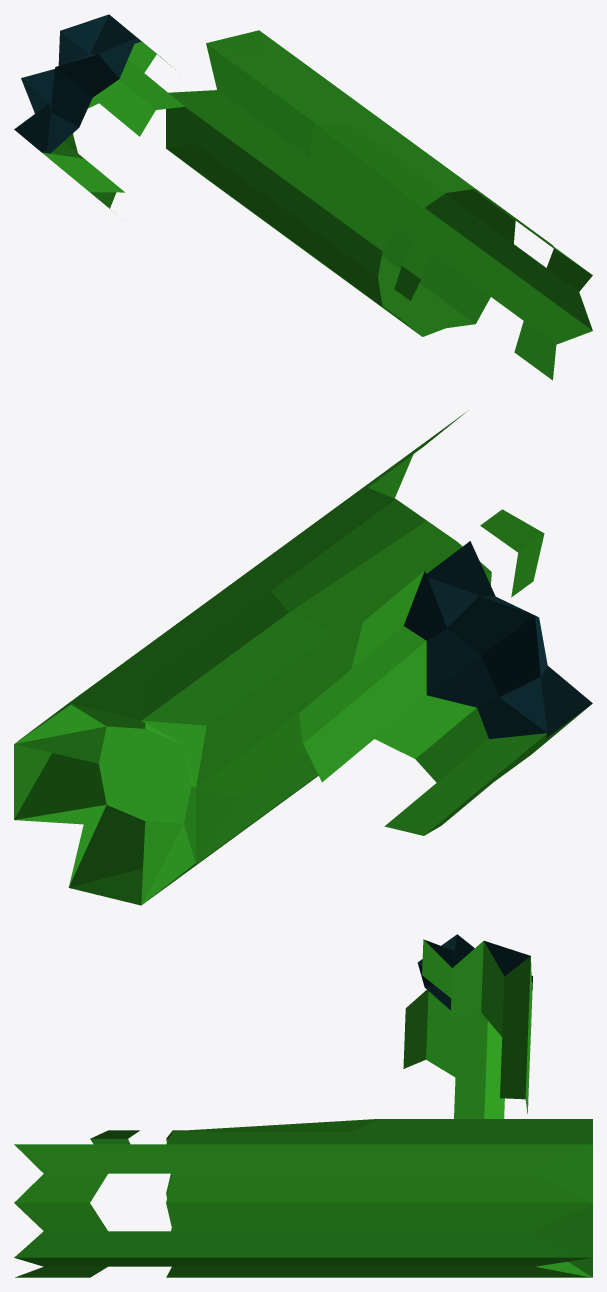
Rendered from archerytower3d.obj.
The picture shows the model from 3 angles, top to bottom: view 1: azimuth 30°, elevation 25°; view 2: azimuth 150°, elevation 25°; view 3: azimuth 270°, elevation 25°; orthographic projection. The views are drawn at different scales.
Parts seen in each view (by area): view 1: Cube, Cube.002, Cube.001; view 2: Cube, Cube.002, Cube.001; view 3: Cube, Cube.002, Cube.001.
Part boxes in pixels (bbox=[...]): Cube: bbox=[166, 30, 515, 336]; Cube.002: bbox=[14, 14, 184, 213]; Cube.001: bbox=[394, 190, 592, 380]; Cube: bbox=[14, 486, 491, 905]; Cube.002: bbox=[299, 541, 592, 835]; Cube.001: bbox=[365, 410, 544, 597]; Cube: bbox=[166, 1119, 592, 1277]; Cube.002: bbox=[403, 934, 532, 1118]; Cube.001: bbox=[14, 1130, 172, 1277].
Bounding box in the file's own units: 1.31 × 0.8855 × 1.95.
